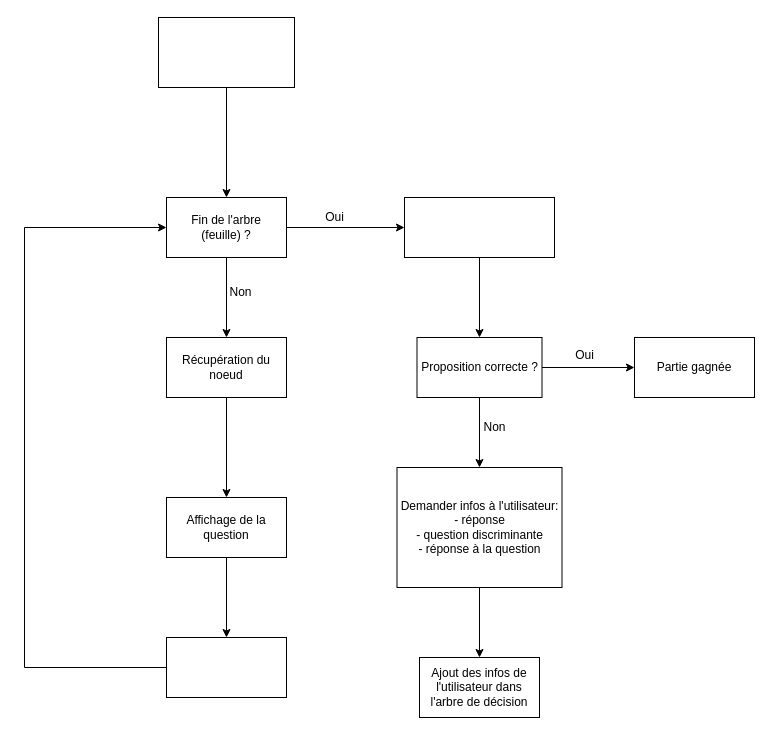
Some shapes in this 772 by 735 pixel diagram are drawn without their labels. Each missing label, with the centre of its shape:
"Afficher la proposition" belongs at point 479,227.
"Avancer dans l'arbre de décision" belongs at point 226,667.
"Récupérer la racine de l'arbre de décision" belongs at point 226,52.
